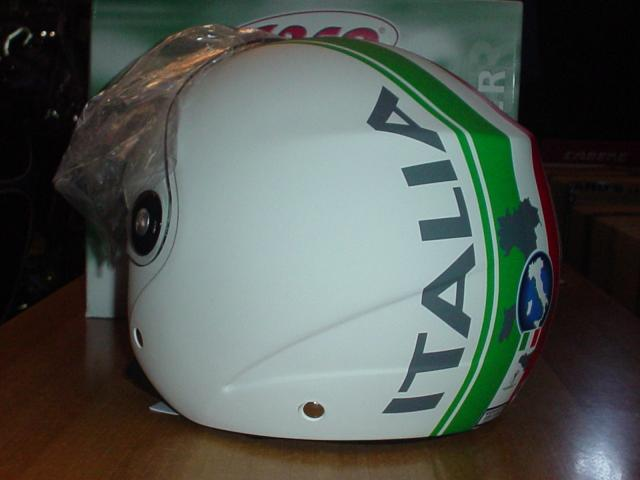helmet: (113, 36, 540, 446)
